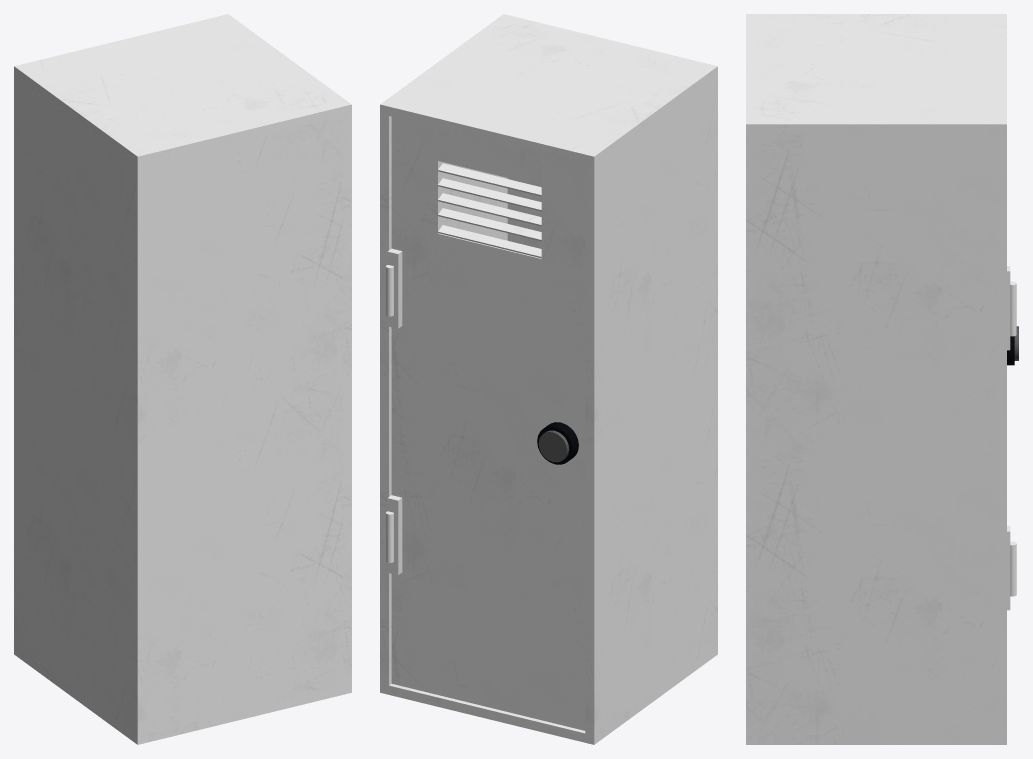
File: Locker.obj
3 renders of one model, left to right at view 1: azimuth 30°, elevation 25°; view 2: azimuth 150°, elevation 25°; view 3: azimuth 270°, elevation 25°, orthographic. The views are drawn at different scales.
Visible parts, largest first — view 1: Part6, Part4, Part5, Part20, Part1; view 2: Part11, Part4, Part5, Part20, Part19, Part17, Part1, Part18, Part12, Part16, Part13, Part14 (+6 smaller); view 3: Part20, Part5, Part1.
Boxes of the visible parts, x1,y1,x2,y2 form: Part6: (146,116,342,733); Part4: (14,76,146,735); Part5: (14,14,351,165); Part20: (343,114,351,685); Part1: (14,645,351,744); Part11: (391,222,585,730); Part4: (585,76,717,735); Part5: (380,14,717,165); Part20: (380,114,507,685); Part19: (391,117,442,233); Part17: (541,153,585,270); Part1: (380,645,717,744); Part18: (438,128,541,185); Part12: (438,225,542,258); Part16: (438,163,542,196); Part13: (438,208,541,241); Part14: (438,193,541,226); Part20: (746,134,1006,734); Part5: (746,14,1006,133); Part1: (746,735,1006,744).
Size of the model in its own units: 6 by 15.75 by 6.27.
Materials: 4 (2 with a texture image).
